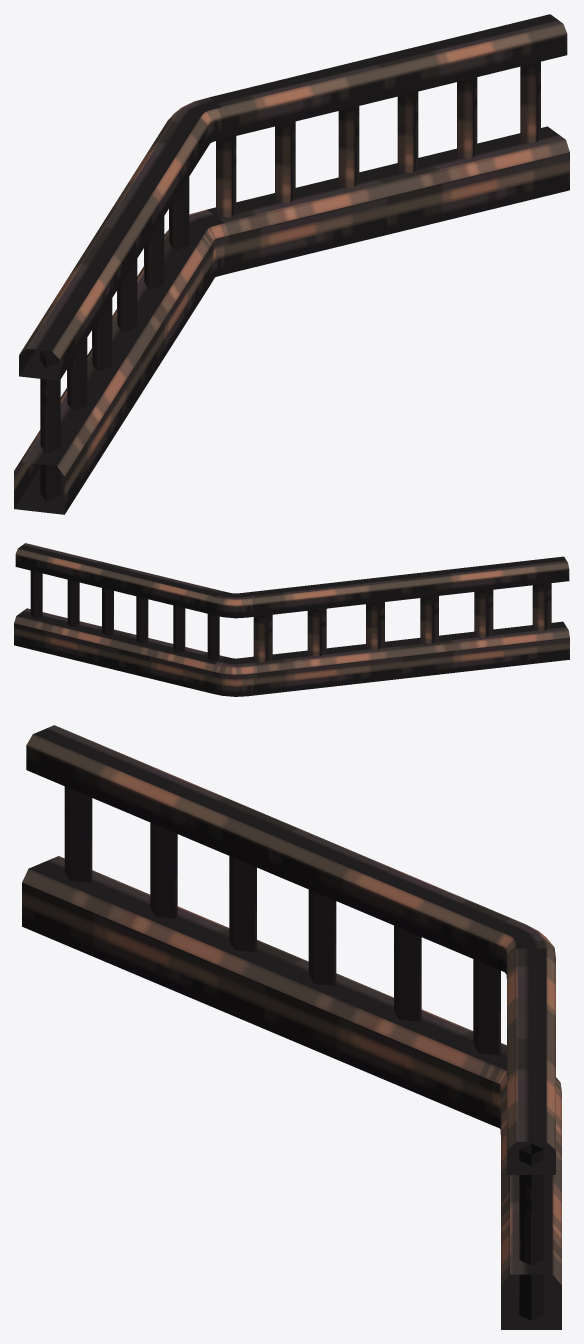
The model's file is EnvBdgMD_Factory_B_Fenece_A_CoOut_LFS.FBX.
3 renders of one model, top to bottom at view 1: azimuth 30°, elevation 25°; view 2: azimuth 150°, elevation 25°; view 3: azimuth 270°, elevation 25°, orthographic. The views are drawn at different scales.
Parts seen in each view (by area): view 1: EnvBdgMD_Factory_B_Fenece_A_CoOut_LFS; view 2: EnvBdgMD_Factory_B_Fenece_A_CoOut_LFS; view 3: EnvBdgMD_Factory_B_Fenece_A_CoOut_LFS.
Boxes of the visible parts, left/top/right/bottom form: EnvBdgMD_Factory_B_Fenece_A_CoOut_LFS: left=14, top=14, right=569, bottom=514; EnvBdgMD_Factory_B_Fenece_A_CoOut_LFS: left=14, top=543, right=569, bottom=696; EnvBdgMD_Factory_B_Fenece_A_CoOut_LFS: left=22, top=725, right=561, bottom=1329.
Bounding box in the file's own units: 409 × 85 × 221.
